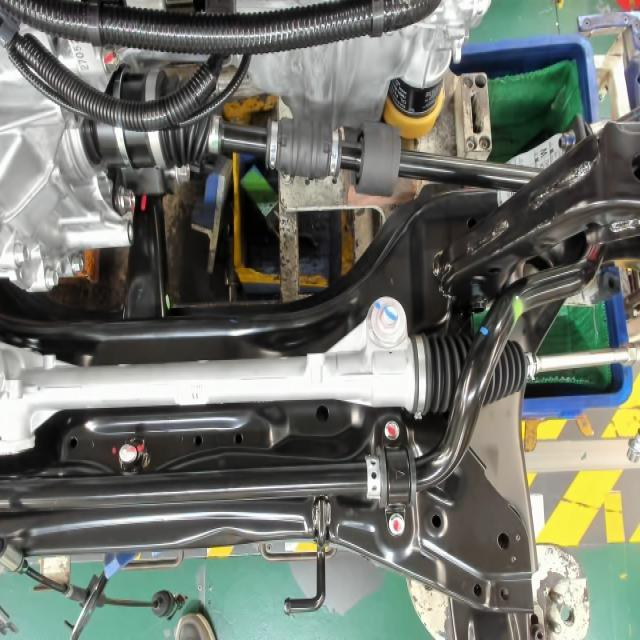Bar Stabilizer-HJ: (509, 294, 528, 329)
